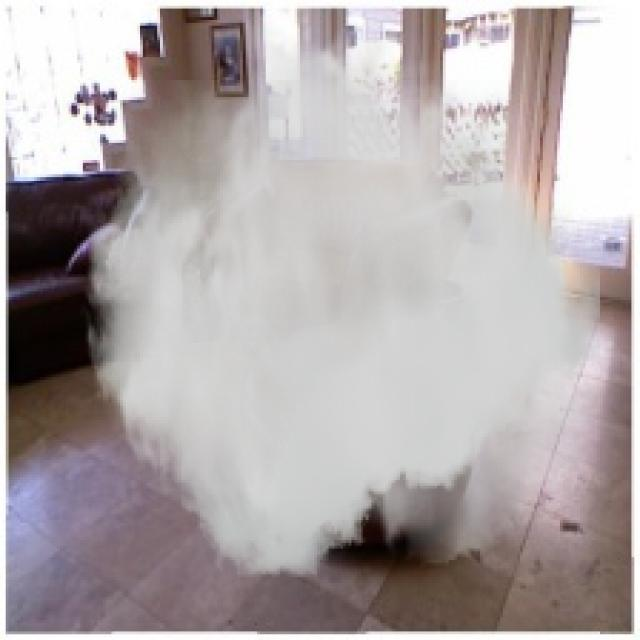smoke: (80, 9, 600, 577)
